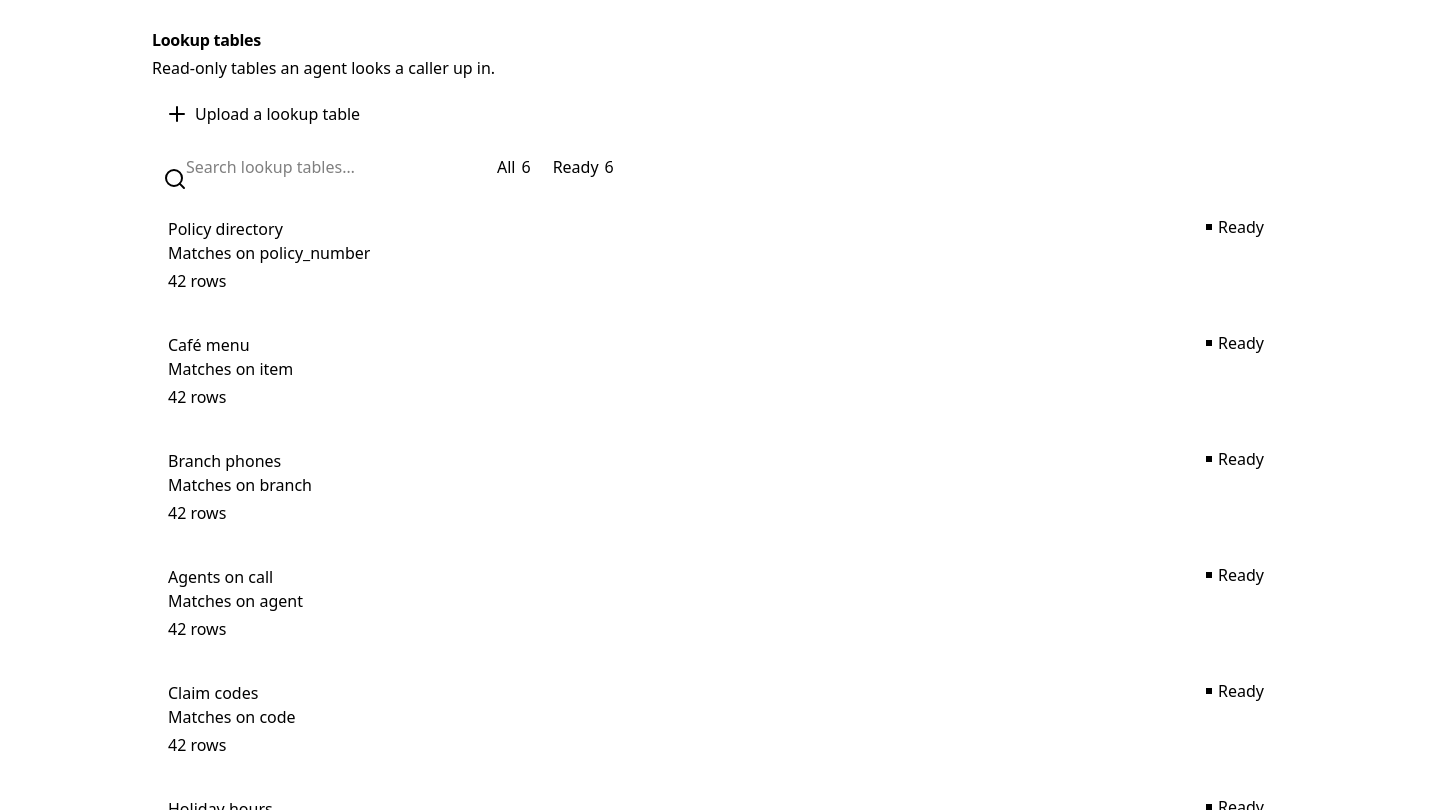
Scenario: list search (datasets) › appears at six items, matches without accents and highlights the match
Type "cafe" into the search field labelled "Search lookup tables" at (312, 167), box [152,149,472,185]
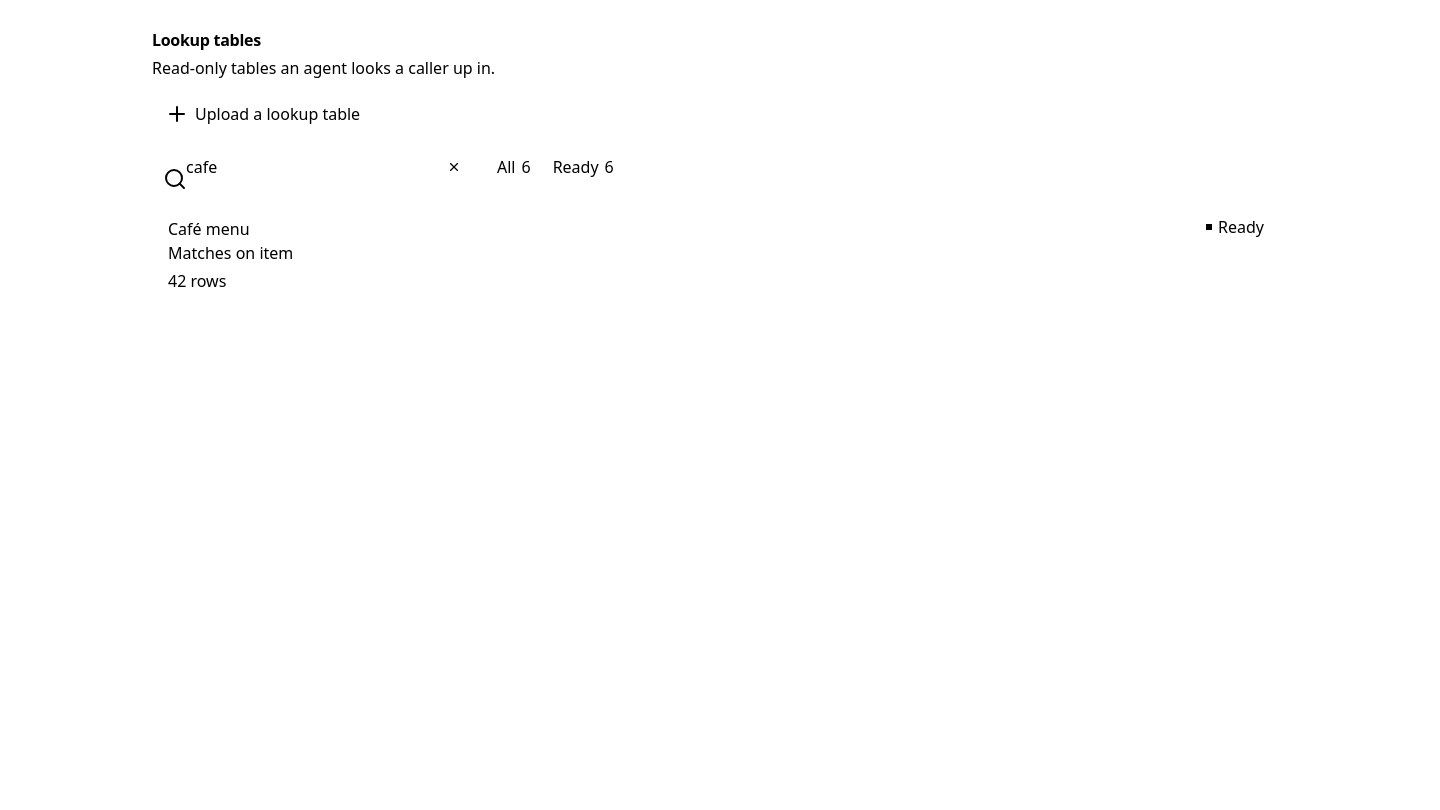
Expected: the text "Policy directory" is gone
